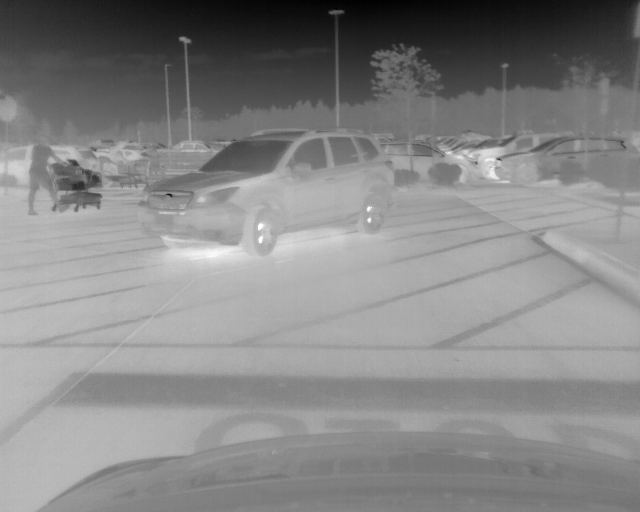car: (130, 127, 396, 259), (492, 133, 640, 186), (472, 132, 578, 184), (383, 141, 484, 184), (8, 145, 98, 185), (172, 141, 221, 154)
people: (26, 137, 69, 215)
